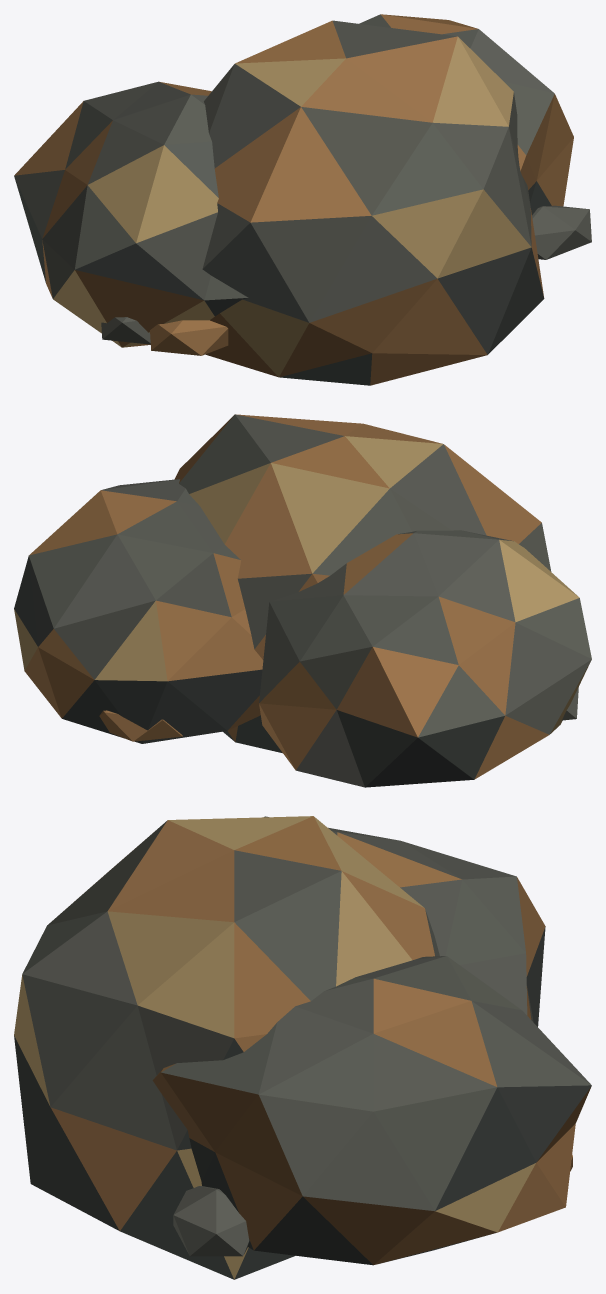
Rendered from ironstone_1.glb.
3 renders of one model, top to bottom at view 1: azimuth 30°, elevation 25°; view 2: azimuth 150°, elevation 25°; view 3: azimuth 270°, elevation 25°, orthographic. The views are drawn at different scales.
Visible parts, largest first — view 1: ironstone_1_mesh; view 2: ironstone_1_mesh; view 3: ironstone_1_mesh.
Part boxes in pixels (x1,y1,x2,y2): ironstone_1_mesh: (14,14,591,385); ironstone_1_mesh: (14,414,591,787); ironstone_1_mesh: (14,816,591,1279).
Bounding box in the file's own units: 1.79 × 0.9368 × 1.44.
